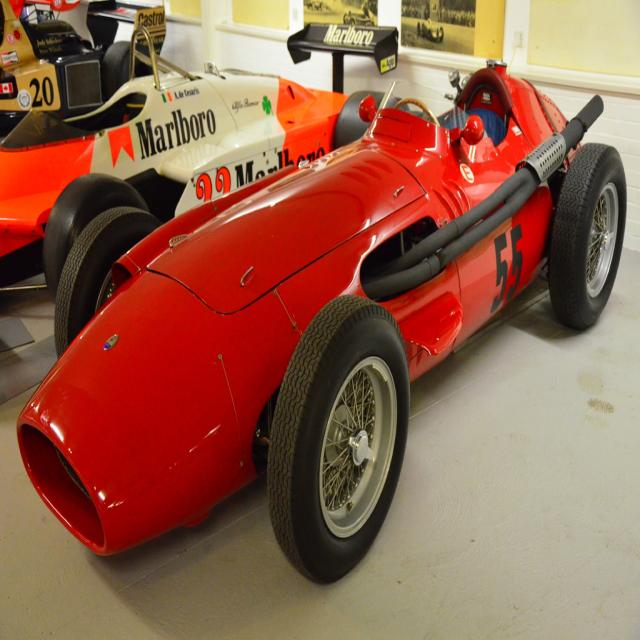car: (15, 58, 626, 590)
